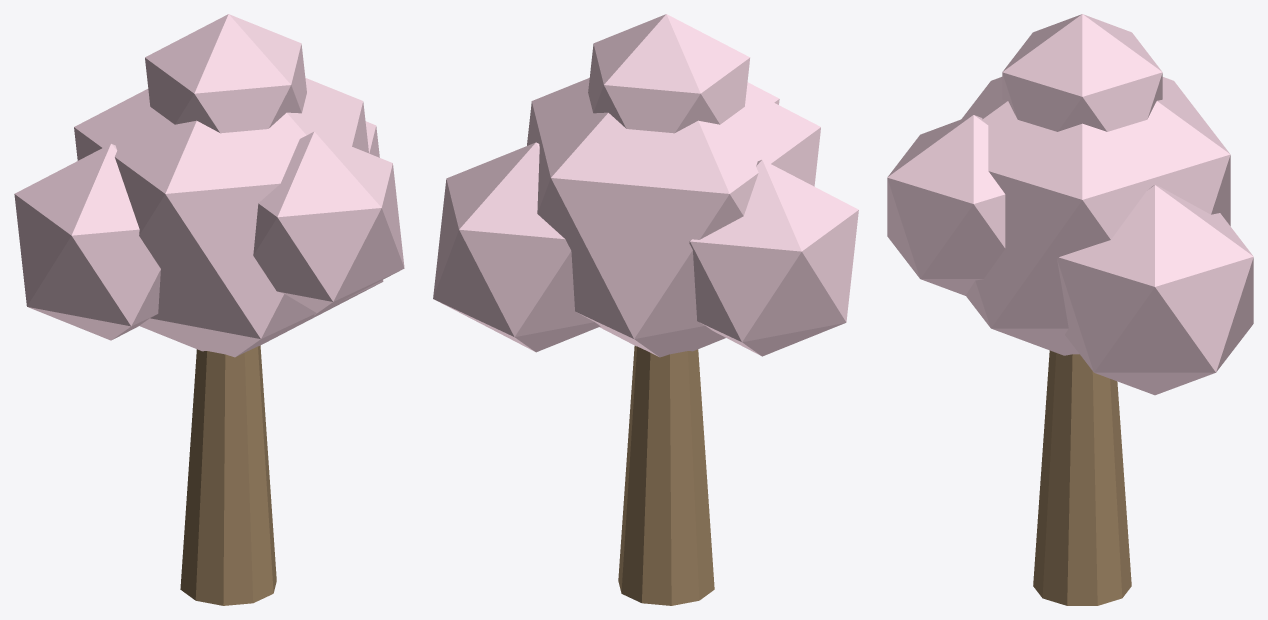
The model's file is tree_blossom.fbx.
3 renders of one model, left to right at view 1: azimuth 30°, elevation 25°; view 2: azimuth 150°, elevation 25°; view 3: azimuth 270°, elevation 25°, orthographic.
Parts seen in each view (by area): view 1: Blossom0, Trunk, Blossom2, Blossom3, Blossom4; view 2: Blossom0, Blossom2, Blossom1, Trunk, Blossom4; view 3: Blossom0, Blossom1, Trunk, Blossom3, Blossom4.
Boxes of the visible parts, box(x1,y1,x2,y2) form: Blossom0: box(74, 78, 383, 357); Trunk: box(180, 345, 276, 605); Blossom2: box(14, 144, 160, 340); Blossom3: box(253, 131, 404, 315); Blossom4: box(145, 14, 306, 133); Blossom0: box(527, 78, 820, 357); Blossom2: box(689, 159, 858, 356); Blossom1: box(433, 142, 600, 352); Trunk: box(618, 346, 714, 605); Blossom4: box(588, 14, 750, 133); Blossom0: box(961, 77, 1230, 355); Blossom1: box(1057, 185, 1253, 395); Trunk: box(1033, 350, 1131, 605); Blossom3: box(887, 115, 1005, 295); Blossom4: box(1002, 14, 1162, 131).
Size of the model in its own units: 2.99 by 4.35 by 2.53.
